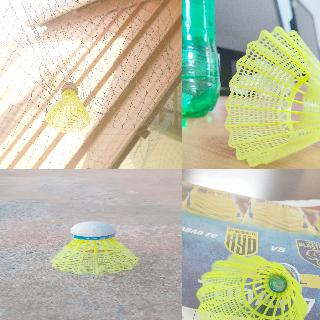shuttlecock: (224, 24, 319, 166), (195, 254, 307, 319), (50, 221, 138, 275), (46, 81, 90, 132)
